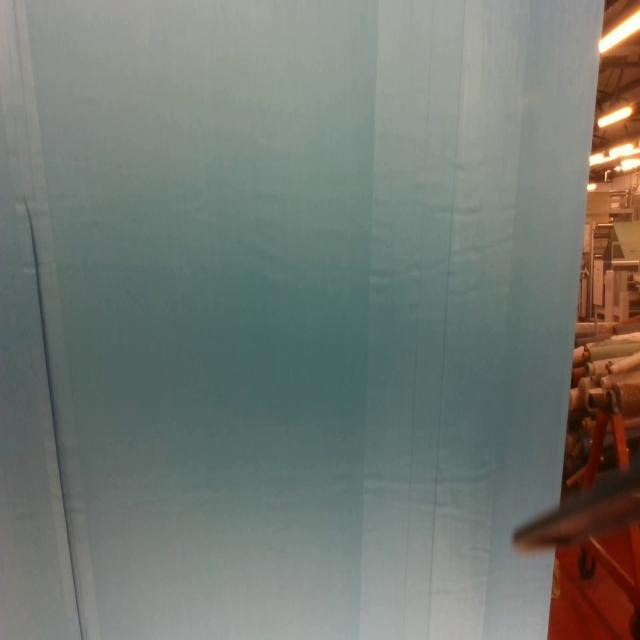crease: (363, 8, 507, 640), (2, 0, 102, 640)
